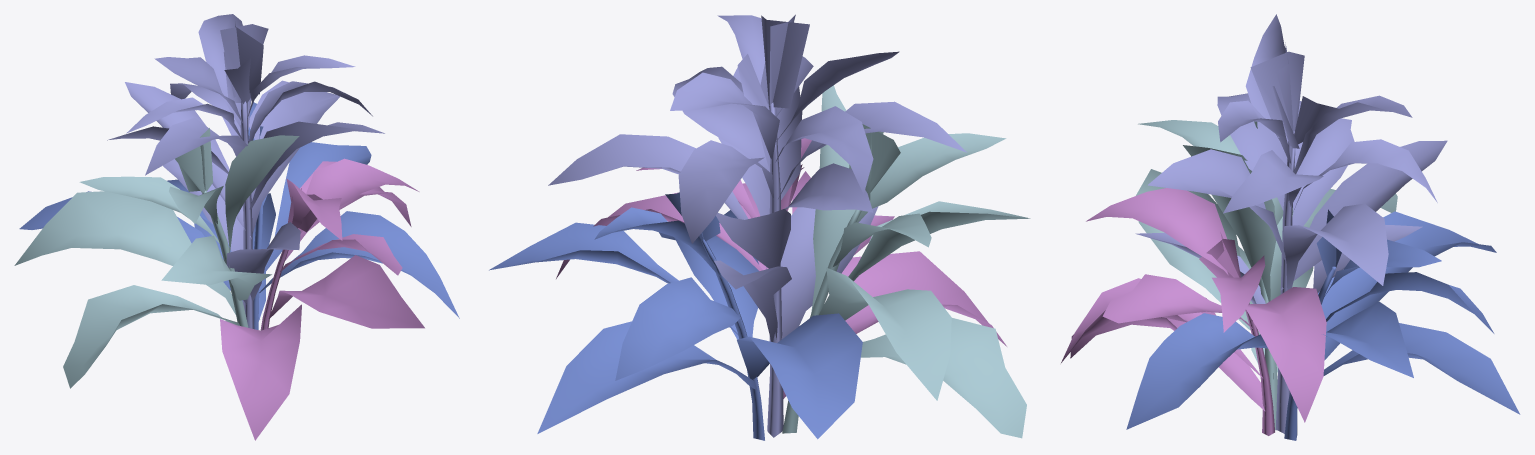
3 views of the same model, side by side, from view 1: azimuth 30°, elevation 25°; view 2: azimuth 150°, elevation 25°; view 3: azimuth 270°, elevation 25° (orthographic). The views are drawn at different scales.
Parts seen in each view (by area): view 1: SM_BS_Aglaonema_130cm_HD; view 2: SM_BS_Aglaonema_130cm_HD; view 3: SM_BS_Aglaonema_130cm_HD.
Boxes of the visible parts, left/top/right/bottom form: SM_BS_Aglaonema_130cm_HD: left=14, top=14, right=459, bottom=440; SM_BS_Aglaonema_130cm_HD: left=489, top=14, right=1030, bottom=440; SM_BS_Aglaonema_130cm_HD: left=1061, top=14, right=1520, bottom=440.
Bounding box in the file's own units: 50.19 × 50.33 × 45.36.
